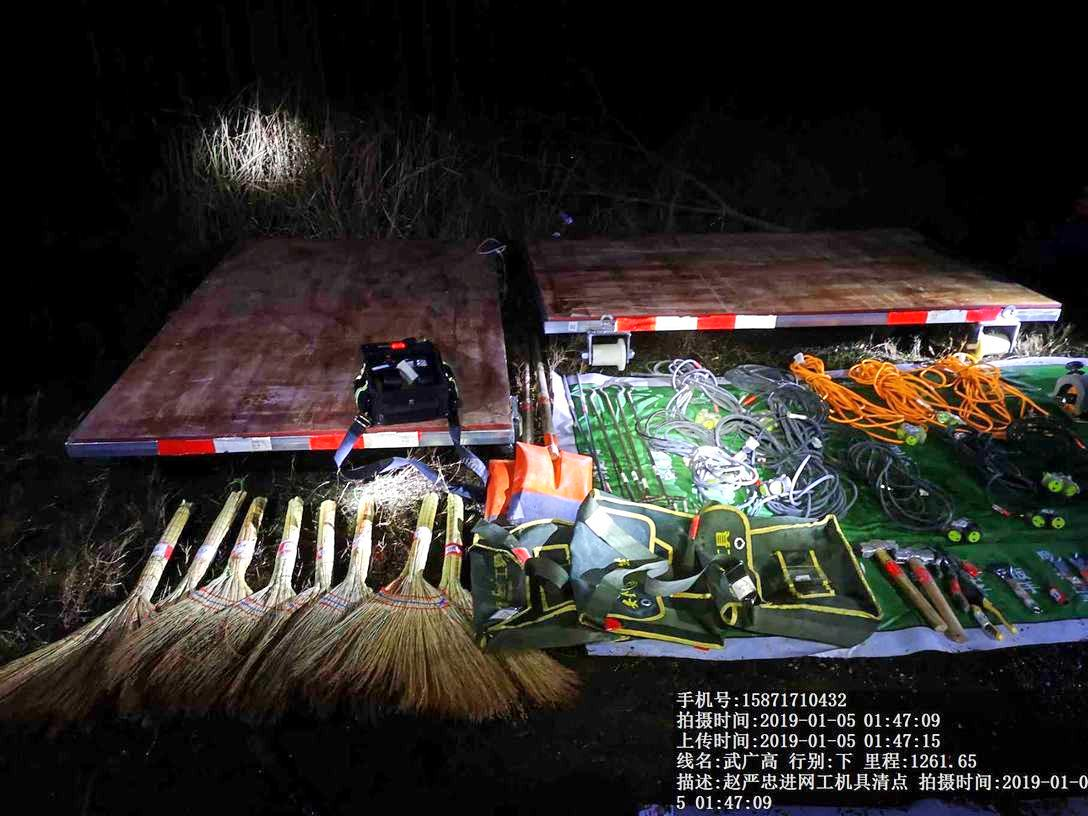DX: (794, 350, 913, 442), (644, 349, 744, 430), (951, 355, 1036, 431), (866, 358, 957, 428), (653, 429, 754, 492)
GJB: (696, 502, 886, 648), (566, 490, 696, 650), (336, 322, 474, 435)
SB: (288, 486, 514, 712), (74, 497, 201, 635)
TQ: (511, 389, 597, 524)
